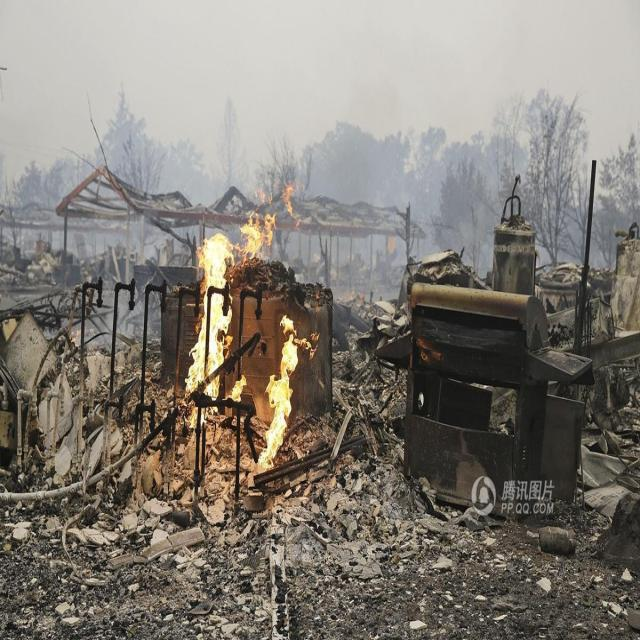fire: (191, 174, 315, 467)
